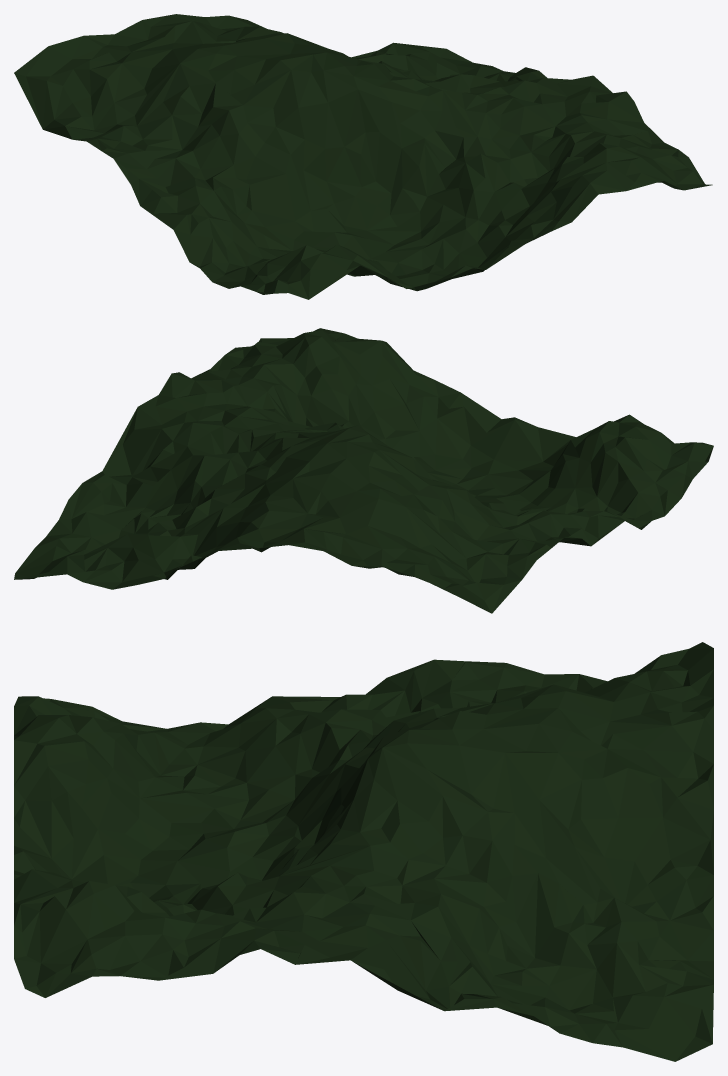
Rendered from SM_terrain_01.fbx.
3 views of the same model, one above another, from view 1: azimuth 30°, elevation 25°; view 2: azimuth 150°, elevation 25°; view 3: azimuth 270°, elevation 25° (orthographic). The views are drawn at different scales.
Parts seen in each view (by area): view 1: terrain_01; view 2: terrain_01; view 3: terrain_01.
Part boxes in pixels (x1,y1,x2,y2): terrain_01: (14,14,712,299); terrain_01: (14,328,713,613); terrain_01: (14,642,713,1061).
Bounding box in the file's own units: 7742 × 2148 × 7742.
